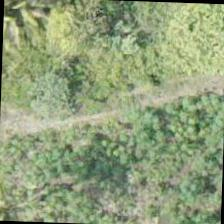Kelapa_Sawit: (0, 158, 50, 222), (2, 0, 51, 48)
